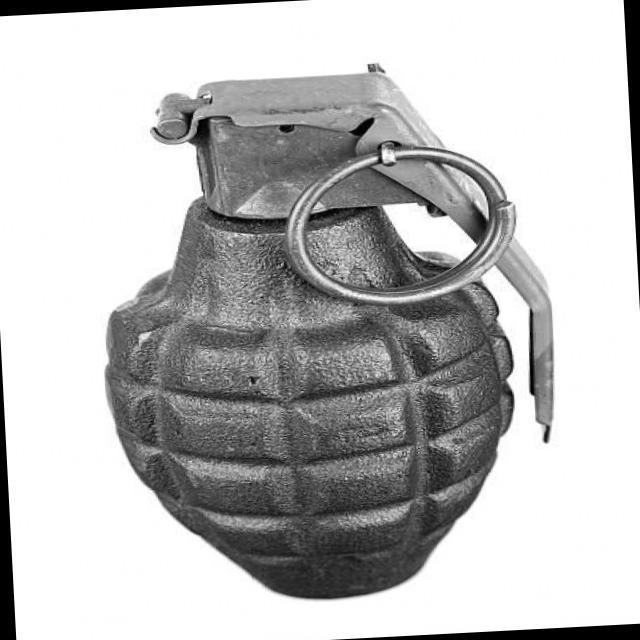grenade: (77, 47, 583, 614)
